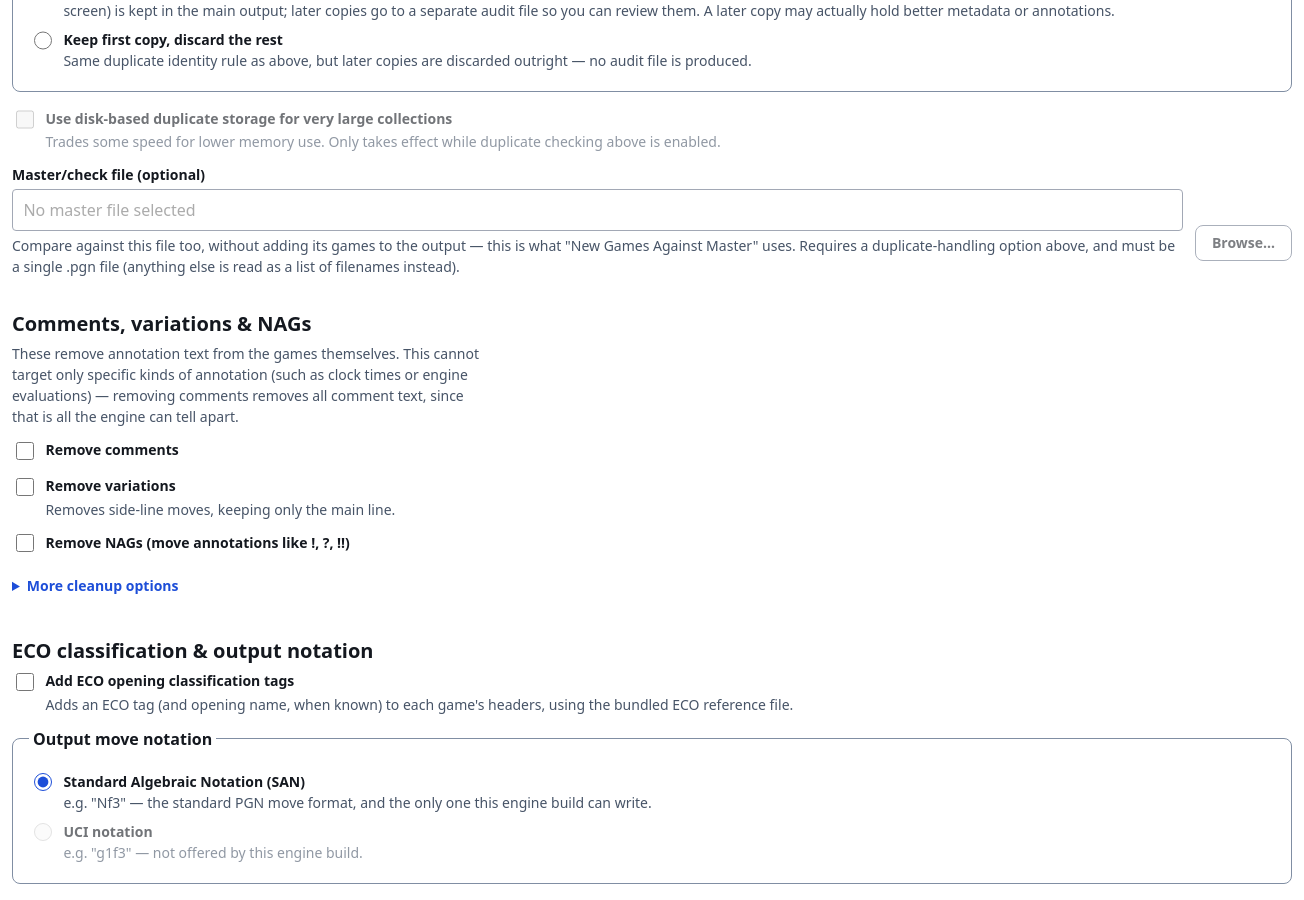
Scenario: OperationsScreen › marks the applied preset as pressed and shows Custom once a control is edited by hand
(page scrolled)
Click the checkbox labelled "Remove comments" at coordinates (25, 451), box [16,442,34,460]
(page scrolled)
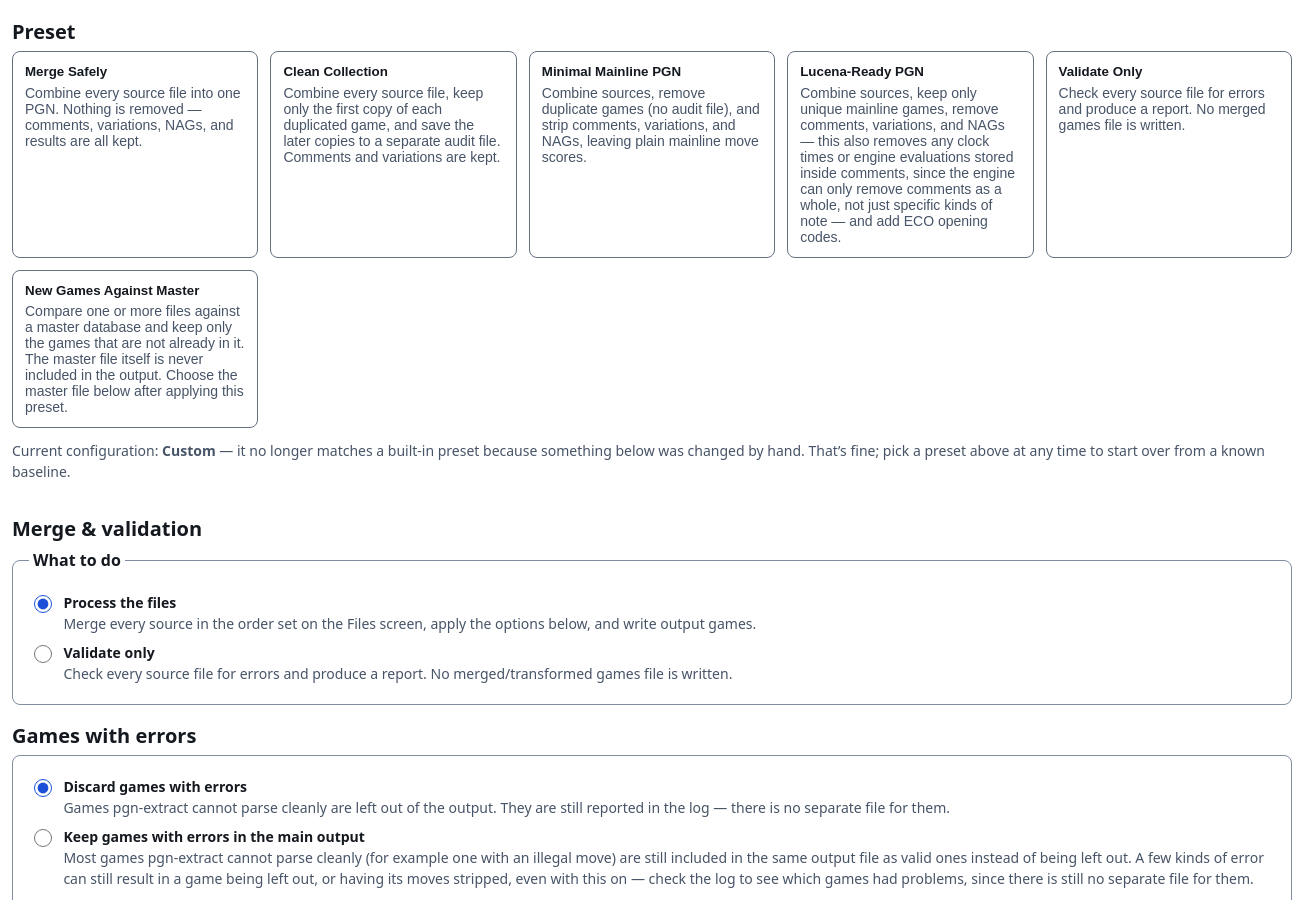
Now the text "Custom" is shown, box [162,441,216,460]
